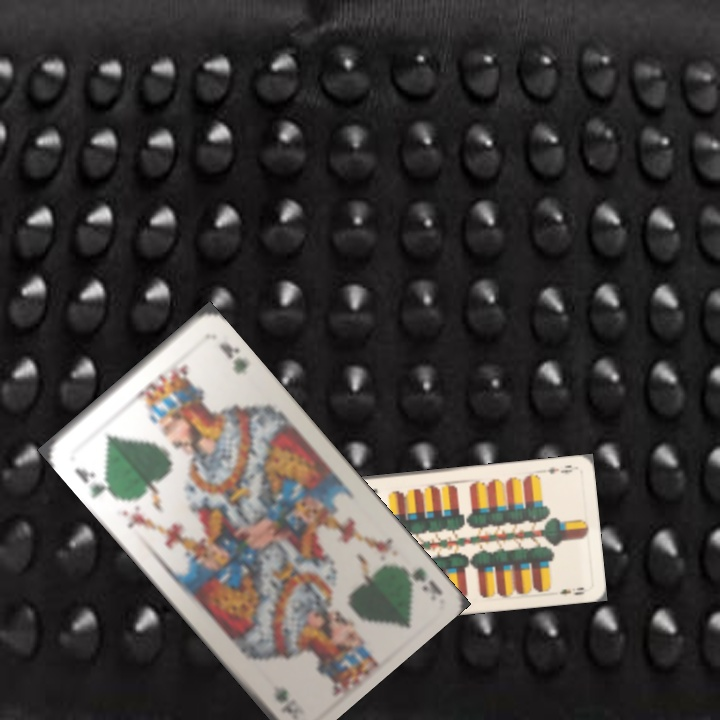E9: (543, 461, 575, 476)
GK: (390, 558, 444, 598), (71, 463, 115, 501)
